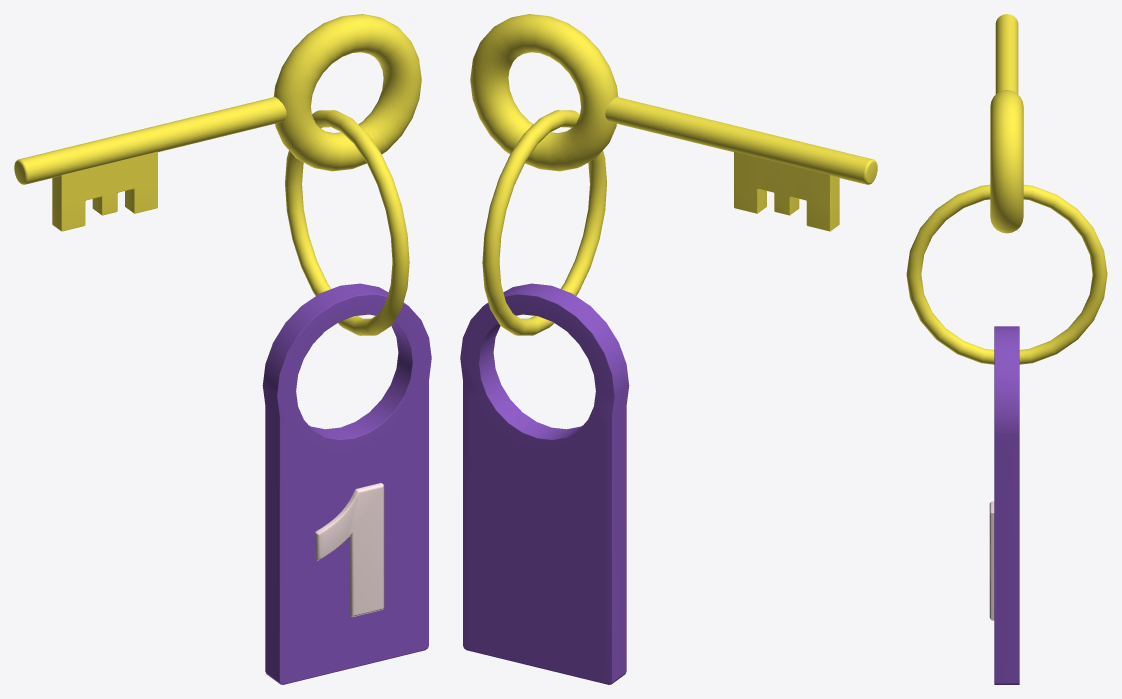
File: Public_7_Key_Number_1.glb
3 views of the same model, side by side, from view 1: azimuth 30°, elevation 25°; view 2: azimuth 150°, elevation 25°; view 3: azimuth 270°, elevation 25° (orthographic). The views are drawn at different scales.
Parts seen in each view (by area): view 1: Public_7_Key_Number_1; view 2: Public_7_Key_Number_1; view 3: Public_7_Key_Number_1.
Boxes of the visible parts, x1,y1,x2,y2 form: Public_7_Key_Number_1: (14,14,431,684); Public_7_Key_Number_1: (460,14,877,684); Public_7_Key_Number_1: (906,14,1107,684).
Bounding box in the file's own units: 1.61 × 2.45 × 0.8011.
1 material, 1 textured.
